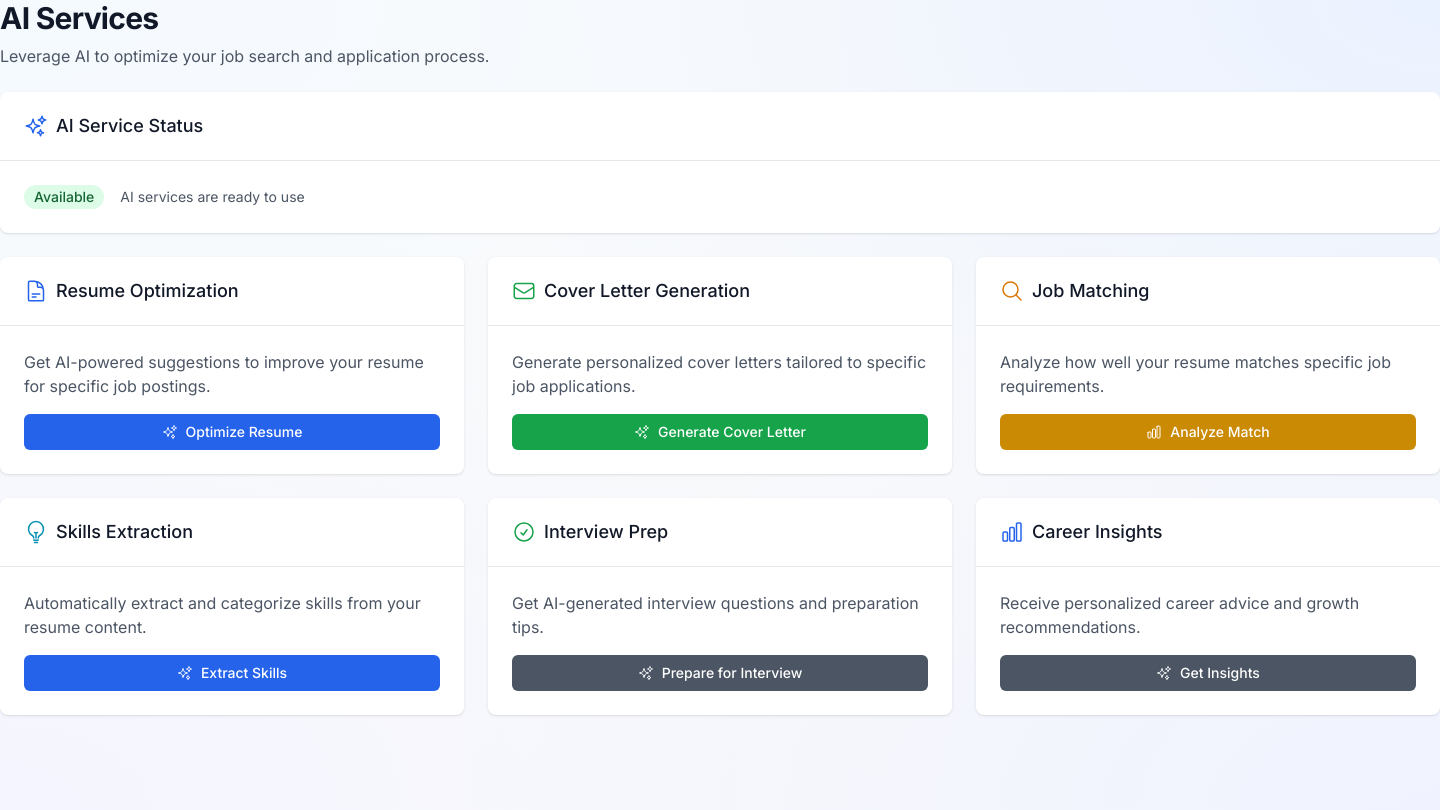
Scenario: AIServices Page › opens Resume Optimization modal
Click the button "Optimize Resume".
click(232, 432)  # box [24, 414, 440, 450]
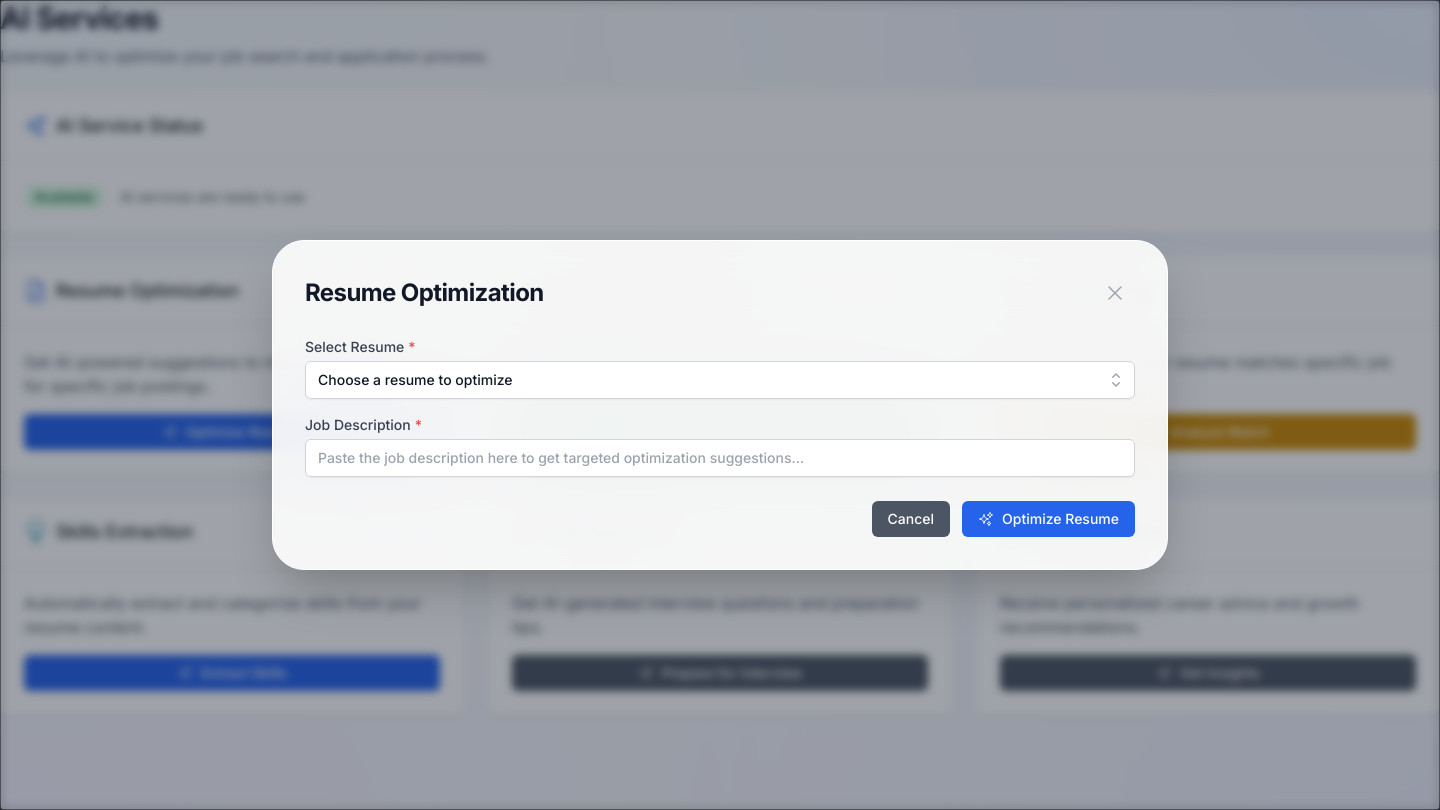
Result: the dialog "Resume Optimization" is shown
